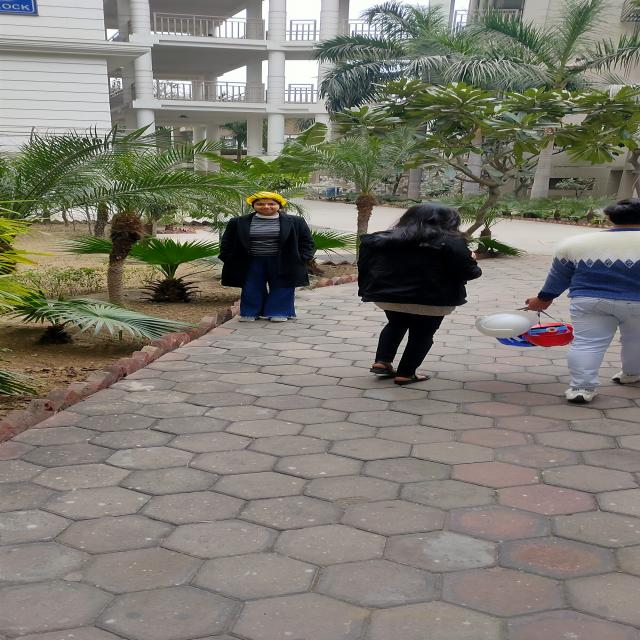no jacket: (221, 191, 316, 324)
unsafe: (483, 199, 640, 405), (355, 201, 483, 386)
